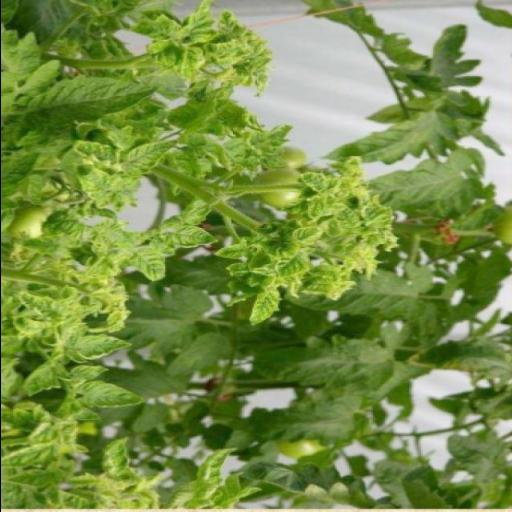disease_tomato: (209, 166, 401, 328), (142, 0, 276, 97), (12, 290, 82, 324), (56, 331, 130, 362), (70, 166, 124, 208), (124, 138, 180, 176), (76, 380, 150, 408), (172, 0, 213, 47), (244, 284, 283, 332), (150, 225, 218, 248), (128, 248, 166, 287), (100, 436, 130, 478), (296, 194, 338, 220), (272, 254, 308, 282), (298, 171, 340, 191), (44, 214, 88, 232), (287, 228, 323, 250)
